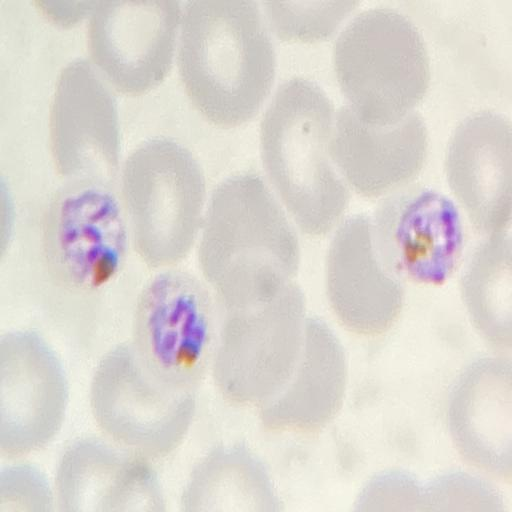Infected: (393, 190, 465, 283), (61, 190, 125, 285), (148, 291, 210, 367)
Uninfected: (260, 77, 358, 234), (193, 168, 301, 297), (180, 0, 273, 128), (93, 345, 197, 455), (216, 283, 304, 409), (334, 9, 428, 122), (262, 314, 349, 435), (124, 138, 201, 267), (327, 209, 402, 333), (44, 61, 121, 176), (89, 0, 181, 91)
